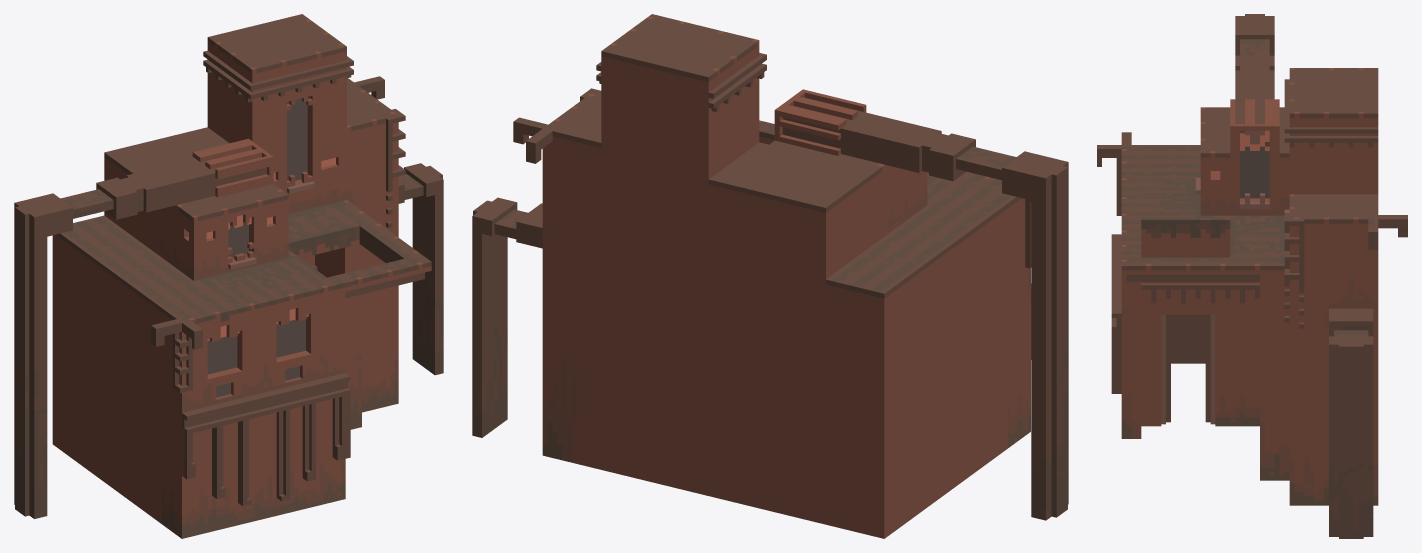
The model's file is U2House3.fbx.
The picture shows the model from 3 angles, left to right: view 1: azimuth 30°, elevation 25°; view 2: azimuth 150°, elevation 25°; view 3: azimuth 270°, elevation 25°; orthographic projection. The views are drawn at different scales.
Parts seen in each view (by area): view 1: U2House3:Mesh; view 2: U2House3:Mesh; view 3: U2House3:Mesh.
Part boxes in pixels (x1,y1,x2,y2): U2House3:Mesh: [14, 14, 443, 538]; U2House3:Mesh: [472, 14, 1068, 538]; U2House3:Mesh: [1097, 14, 1407, 538].
Bounding box in the file's own units: 108 × 82 × 63.
